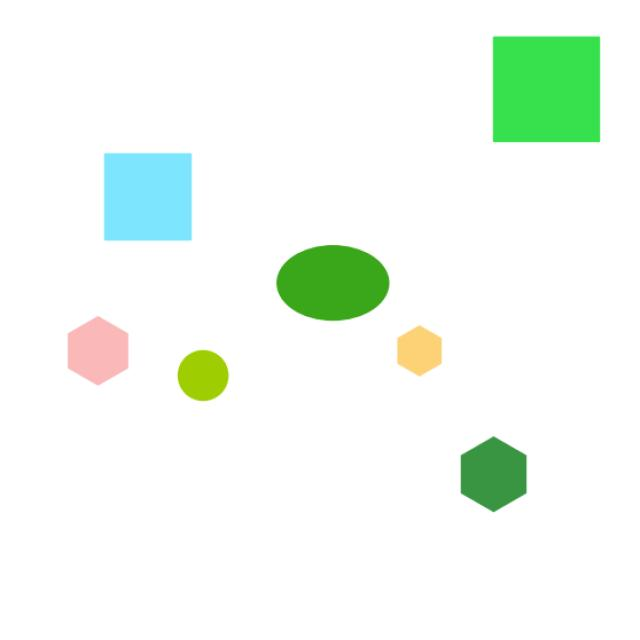Circle: (173, 332, 241, 412)
Hexagon: (438, 425, 548, 544), (46, 298, 153, 408), (392, 316, 454, 388)
Oval: (249, 220, 406, 330)
square: (469, 15, 622, 154), (93, 140, 212, 244)
